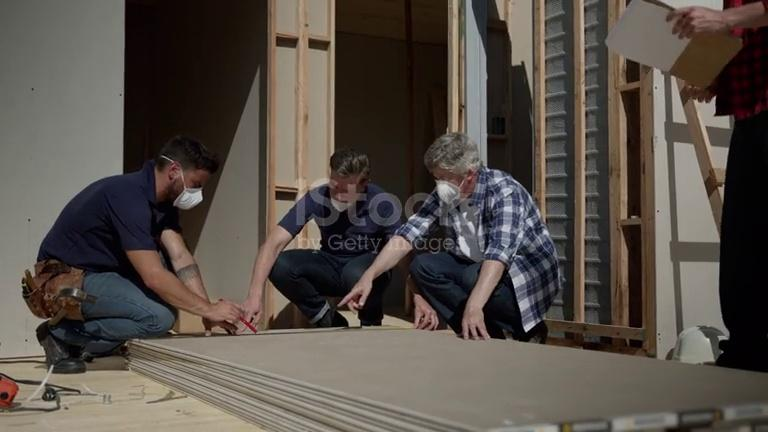mask: (174, 179, 204, 211), (434, 179, 461, 207), (330, 191, 349, 212)
person: (28, 128, 248, 374), (339, 131, 567, 346), (667, 1, 768, 374), (241, 147, 427, 331)
